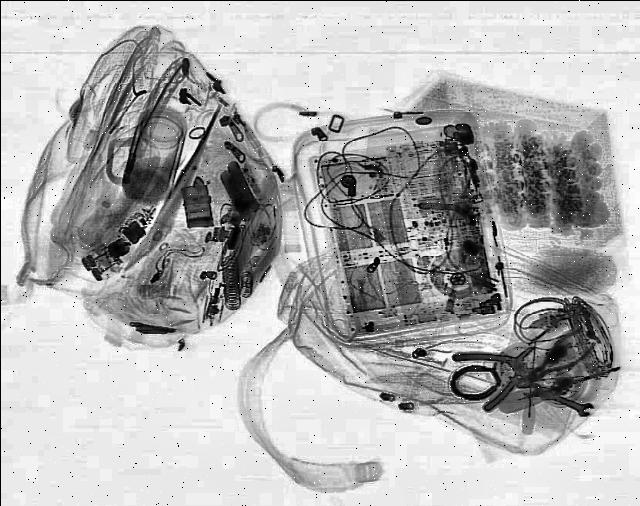Pliers: (502, 327, 600, 395)
Wrench: (528, 380, 596, 416)
